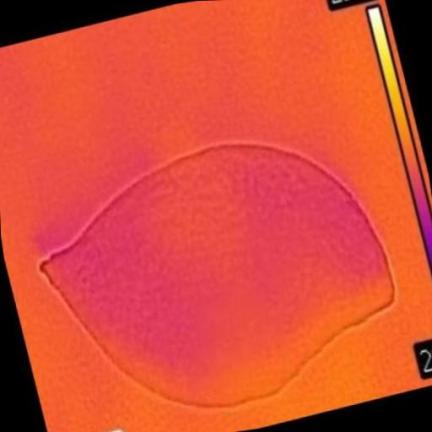mango: (41, 144, 393, 405)
